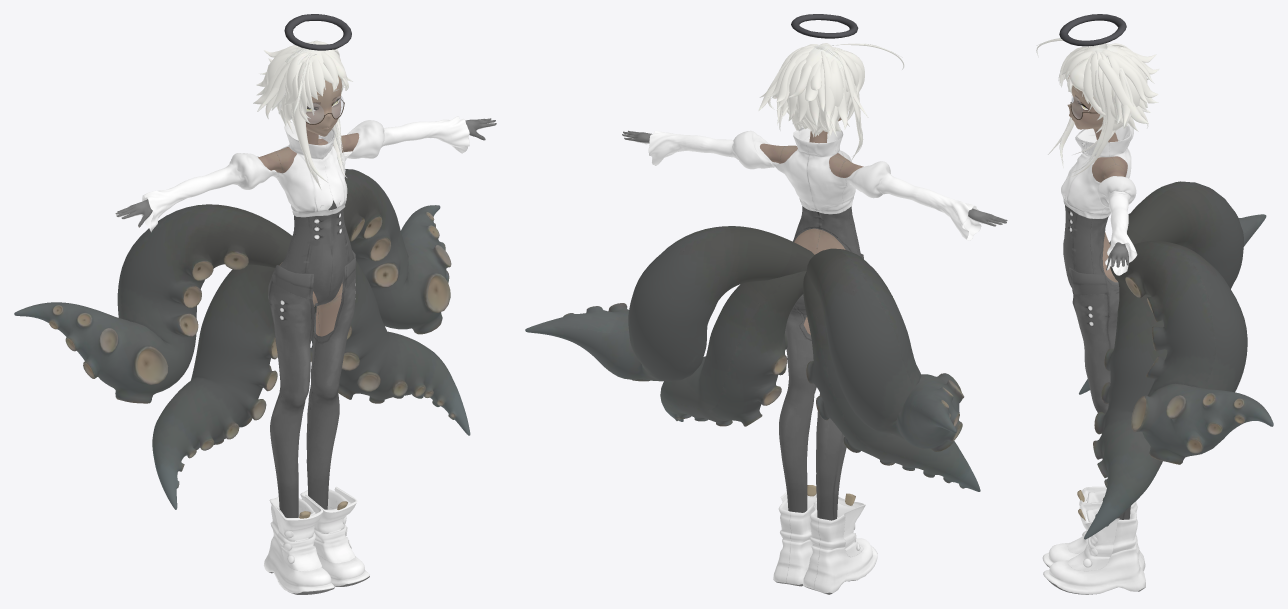
Rendered from menina-polvo.glb.
3 renders of one model, left to right at view 1: azimuth 30°, elevation 25°; view 2: azimuth 150°, elevation 25°; view 3: azimuth 270°, elevation 25°, orthographic.
Parts seen in each view (by area): view 1: web_CALDA2, web_CORPO.001, web_CALDA1, web_BLUSA, web_CABELO, web_copia.004; view 2: web_CALDA2, web_CALDA1, web_CORPO.001, web_BLUSA, web_CABELO, web_copia.004; view 3: web_CALDA2, web_CORPO.001, web_CALDA1, web_CABELO, web_BLUSA, web_copia.004.
Boxes of the visible parts, x1,y1,x2,y2 form: web_CALDA2: [14, 169, 451, 403]; web_CORPO.001: [115, 75, 496, 594]; web_CALDA1: [152, 261, 470, 509]; web_BLUSA: [142, 116, 469, 232]; web_CABELO: [253, 40, 352, 189]; web_copia.004: [284, 14, 351, 50]; web_CALDA2: [525, 226, 964, 451]; web_CALDA1: [660, 271, 980, 491]; web_CORPO.001: [622, 117, 1007, 594]; web_BLUSA: [648, 127, 981, 240]; web_CABELO: [758, 43, 904, 159]; web_copia.004: [791, 14, 858, 38]; web_CALDA2: [1109, 181, 1273, 464]; web_CORPO.001: [1042, 75, 1145, 594]; web_CALDA1: [1079, 281, 1167, 539]; web_CABELO: [1036, 38, 1159, 177]; web_BLUSA: [1061, 123, 1137, 275]; web_copia.004: [1059, 14, 1126, 46].
Size of the model in its own units: 22.71 by 28.04 by 10.86.
7 materials, 5 textured.
